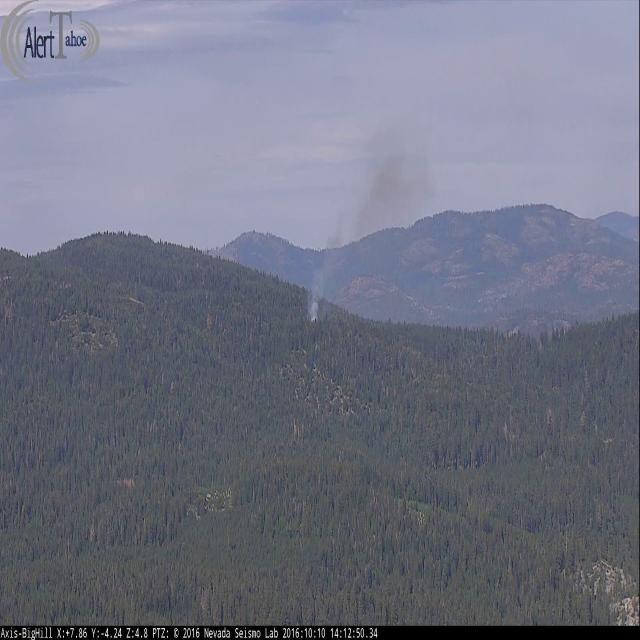smoke: (304, 112, 441, 332)
